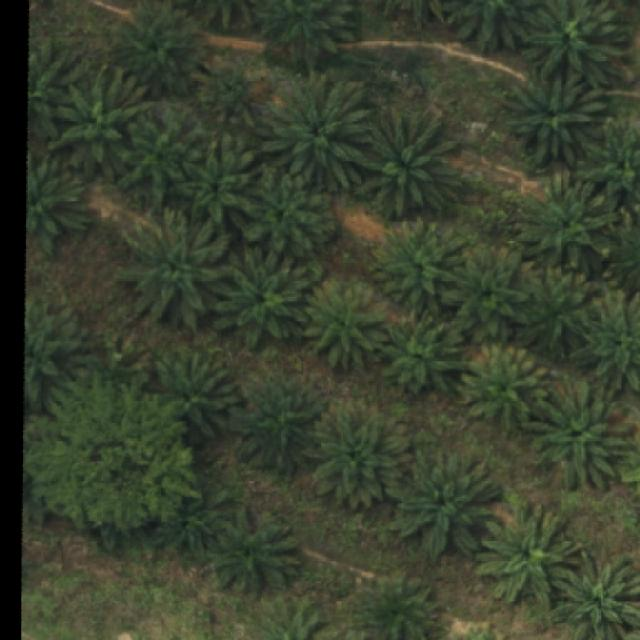Kelapa_Sawit: (117, 203, 237, 334), (260, 69, 375, 193), (386, 446, 502, 562), (354, 104, 464, 221), (48, 64, 155, 184), (527, 375, 631, 496), (474, 498, 583, 610), (305, 397, 409, 511), (500, 65, 609, 170), (514, 167, 618, 271), (212, 244, 312, 351), (118, 100, 214, 209), (231, 366, 324, 476), (203, 502, 302, 601), (107, 0, 207, 98), (374, 216, 469, 316), (444, 242, 530, 346), (378, 302, 473, 396), (148, 348, 238, 443), (244, 171, 336, 258), (303, 273, 383, 373), (176, 130, 259, 225), (463, 340, 548, 432), (518, 262, 598, 356), (193, 49, 267, 129)
